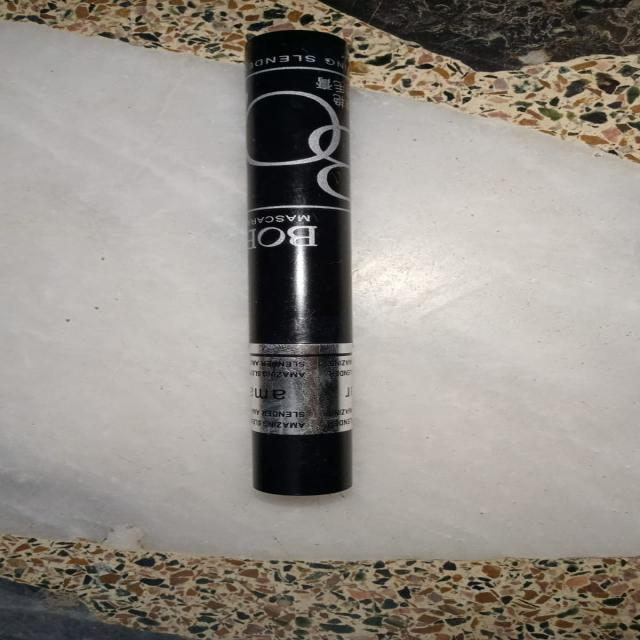mascara: (235, 17, 392, 502)
